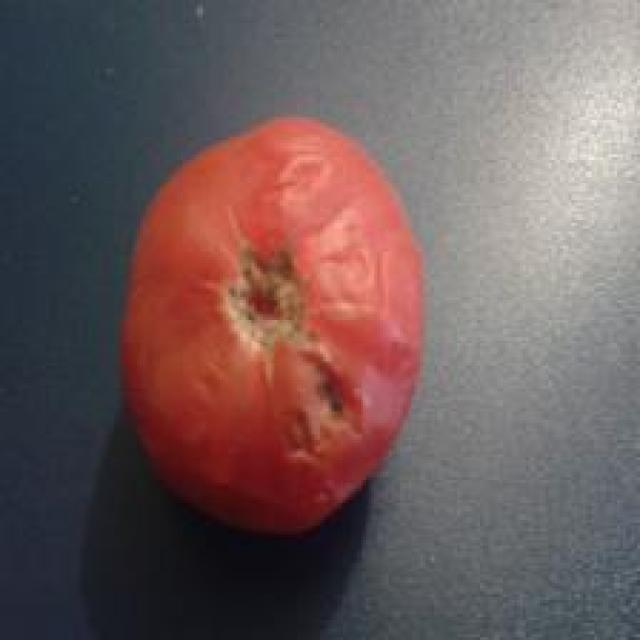overripe: (120, 110, 430, 536)
